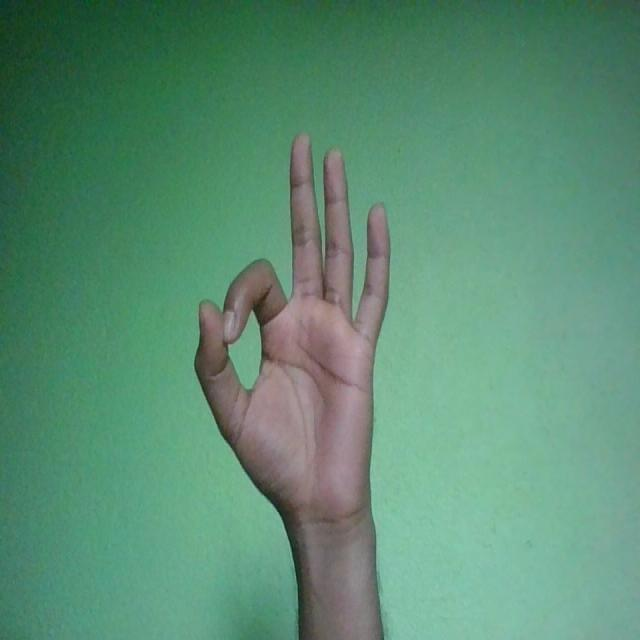Rock On: (194, 128, 391, 534)
